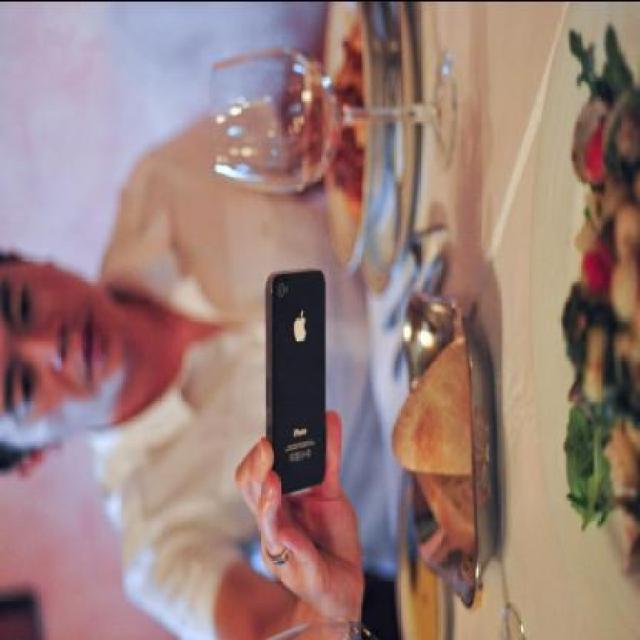phone: (250, 292, 339, 514)
